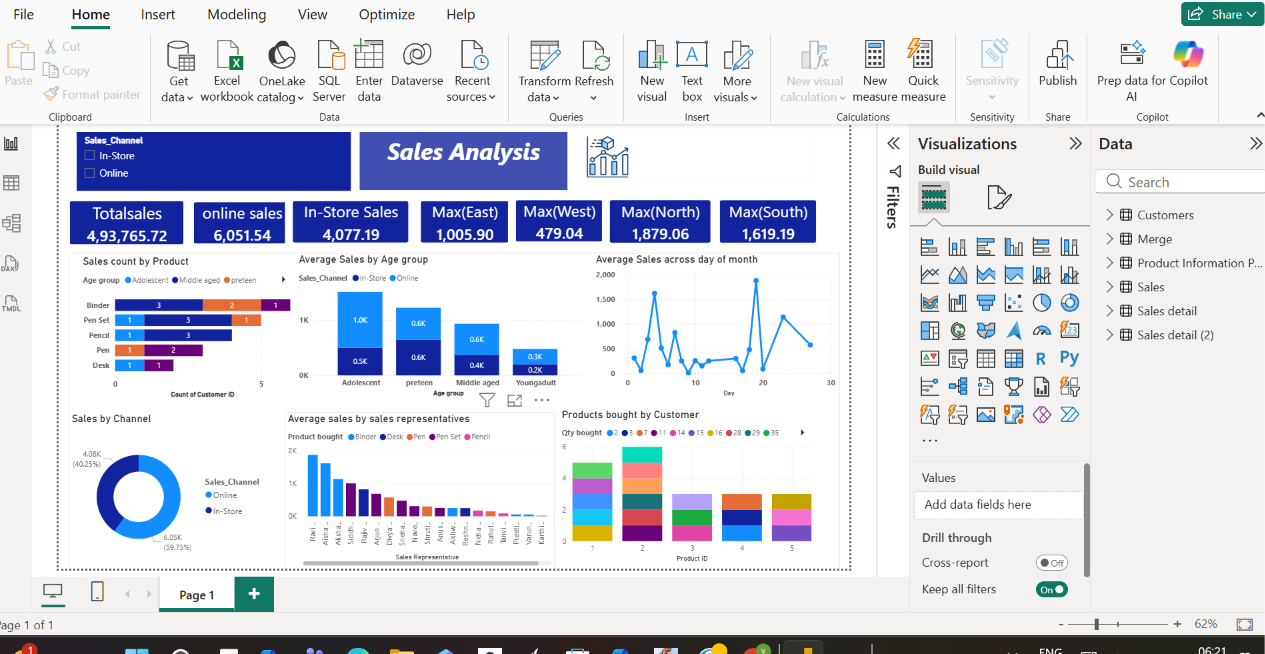

The dashboard page shown, as its layout file describes it:
{"tool":"powerbi","page":{"name":"Page 1","canvas":[1280,720],"ordinal":0},"visuals":[{"type":"group","id":"g1","title":"Group 1","box":[487.3,0,752.9,106.9],"z":0,"group":"g4"},{"type":"barChart","title":"Sales count by Product","fields":{"Category":["Product Information Power BI.Product bought"],"Series":["Sales.Age group"],"Y":["CountNonNull(Sales.Customer ID)"]},"box":[33.7,212.3,349.8,236.4],"z":0,"group":"g3"},{"type":"group","id":"g2","title":"Group 2","box":[0,105.2,1245.2,108.5],"z":1000},{"type":"columnChart","title":"Average Sales by Age group","fields":{"Y":["Avg(Merge.Sales.Sales)"],"Category":["Sales.Age group"],"Series":["Sales detail.Sales_Channel"]},"box":[383.2,208.9,469.6,237],"z":1000,"group":"g3"},{"type":"group","id":"g3","title":"Group 3","box":[16.2,208.9,1248.4,511.5],"z":2000},{"type":"donutChart","title":"Sales by Channel","fields":{"Category":["Sales detail.Sales_Channel"],"Y":["Sum(Merge.Sales.Sales)"]},"box":[16.2,466.8,331.9,253.5],"z":2000,"group":"g3"},{"type":"slicer","fields":{"Values":["Sales detail.Sales_Channel"]},"box":[29.1,13,443.7,95.5],"z":2001,"group":"g4"},{"type":"group","id":"g4","title":"Group 4","box":[29.1,0,1211.2,108.5],"z":2002},{"type":"columnChart","title":"Average sales by sales representatives","fields":{"Category":["Merge.Sales Representative"],"Y":["Avg(Merge.Sales.Sales)"],"Series":["Product Information Power BI.Product bought"]},"box":[366,466.8,437.2,253.5],"z":3000,"group":"g3"},{"type":"lineChart","title":"Average Sales across day of month","fields":{"Y":["Avg(Merge.Sales.Sales)"],"Category":["Sales detail.Date of sale.Variation.Date Hierarchy.Year","Sales detail.Date of sale.Variation.Date Hierarchy.Quarter","Sales detail.Date of sale.Variation.Date Hierarchy.Month","Sales detail.Date of sale.Variation.Date Hierarchy.Day"]},"box":[864.7,208.9,399.9,237],"z":4000,"group":"g3"},{"type":"columnChart","title":"Products bought by Customer","fields":{"Category":["Product Information Power BI.Product ID"],"Series":["Product Information Power BI.Qty bought"],"Y":["CountNonNull(Sales.Customer ID)"]},"box":[809,459.2,414.5,254.2],"z":5000,"group":"g3"},{"type":"textbox","box":[487.3,13,336.8,93.9],"z":6000,"group":"g1"},{"type":"cardVisual","fields":{"Data":["Product Information Power BI.Totalsales"]},"box":[0,106.8,220.2,106.9],"z":7000,"group":"g2"},{"type":"cardVisual","fields":{"Data":["Merge.online sales"]},"box":[200.8,108.4,192.7,103.6],"z":8000,"group":"g2"},{"type":"cardVisual","fields":{"Data":["Merge.In-Store Sales"]},"box":[361.1,106.8,223.5,103.6],"z":9000,"group":"g2"},{"type":"cardVisual","fields":{"Data":["Sales.Max(East)"]},"box":[568.3,106.8,178.1,103.6],"z":10000,"group":"g2"},{"type":"cardVisual","fields":{"Data":["Sales.Max(West)"]},"box":[722.2,105.2,176.5,103.6],"z":11000,"group":"g2"},{"type":"cardVisual","fields":{"Data":["Sales.Max(North)"]},"box":[874.4,105.2,199.2,105.2],"z":12000,"group":"g2"},{"type":"cardVisual","fields":{"Data":["Sales.Max(South)"]},"box":[1052.5,105.2,192.7,105.2],"z":13000,"group":"g2"},{"type":"cardVisual","fields":{"Data":["Sales.Max(West)"]},"box":[824.1,0,416.1,105.2],"z":13001,"group":"g1"}]}

Visuals, with their boxes on the page's 1280x720 design canvas (x1, y1, x2, y2). These are canvas units, not pixel positions in the 1265x654 screenshot, which may show the page scaled, cropped or inside an application window:
"Group 1" group: select_region(487, 0, 1240, 107)
"Sales count by Product" barChart: select_region(34, 212, 384, 449)
"Group 2" group: select_region(0, 105, 1245, 214)
"Average Sales by Age group" columnChart: select_region(383, 209, 853, 446)
"Group 3" group: select_region(16, 209, 1265, 720)
"Sales by Channel" donutChart: select_region(16, 467, 348, 720)
slicer - Sales detail.Sales_Channel: select_region(29, 13, 473, 108)
"Group 4" group: select_region(29, 0, 1240, 108)
"Average sales by sales representatives" columnChart: select_region(366, 467, 803, 720)
"Average Sales across day of month" lineChart: select_region(865, 209, 1265, 446)
"Products bought by Customer" columnChart: select_region(809, 459, 1224, 713)
textbox: select_region(487, 13, 824, 107)
cardVisual - Product Information Power BI.Totalsales: select_region(0, 107, 220, 214)
cardVisual - Merge.online sales: select_region(201, 108, 394, 212)
cardVisual - Merge.In-Store Sales: select_region(361, 107, 585, 210)
cardVisual - Sales.Max(East): select_region(568, 107, 746, 210)
cardVisual - Sales.Max(West): select_region(722, 105, 899, 209)
cardVisual - Sales.Max(North): select_region(874, 105, 1074, 210)
cardVisual - Sales.Max(South): select_region(1052, 105, 1245, 210)
cardVisual - Sales.Max(West): select_region(824, 0, 1240, 105)
